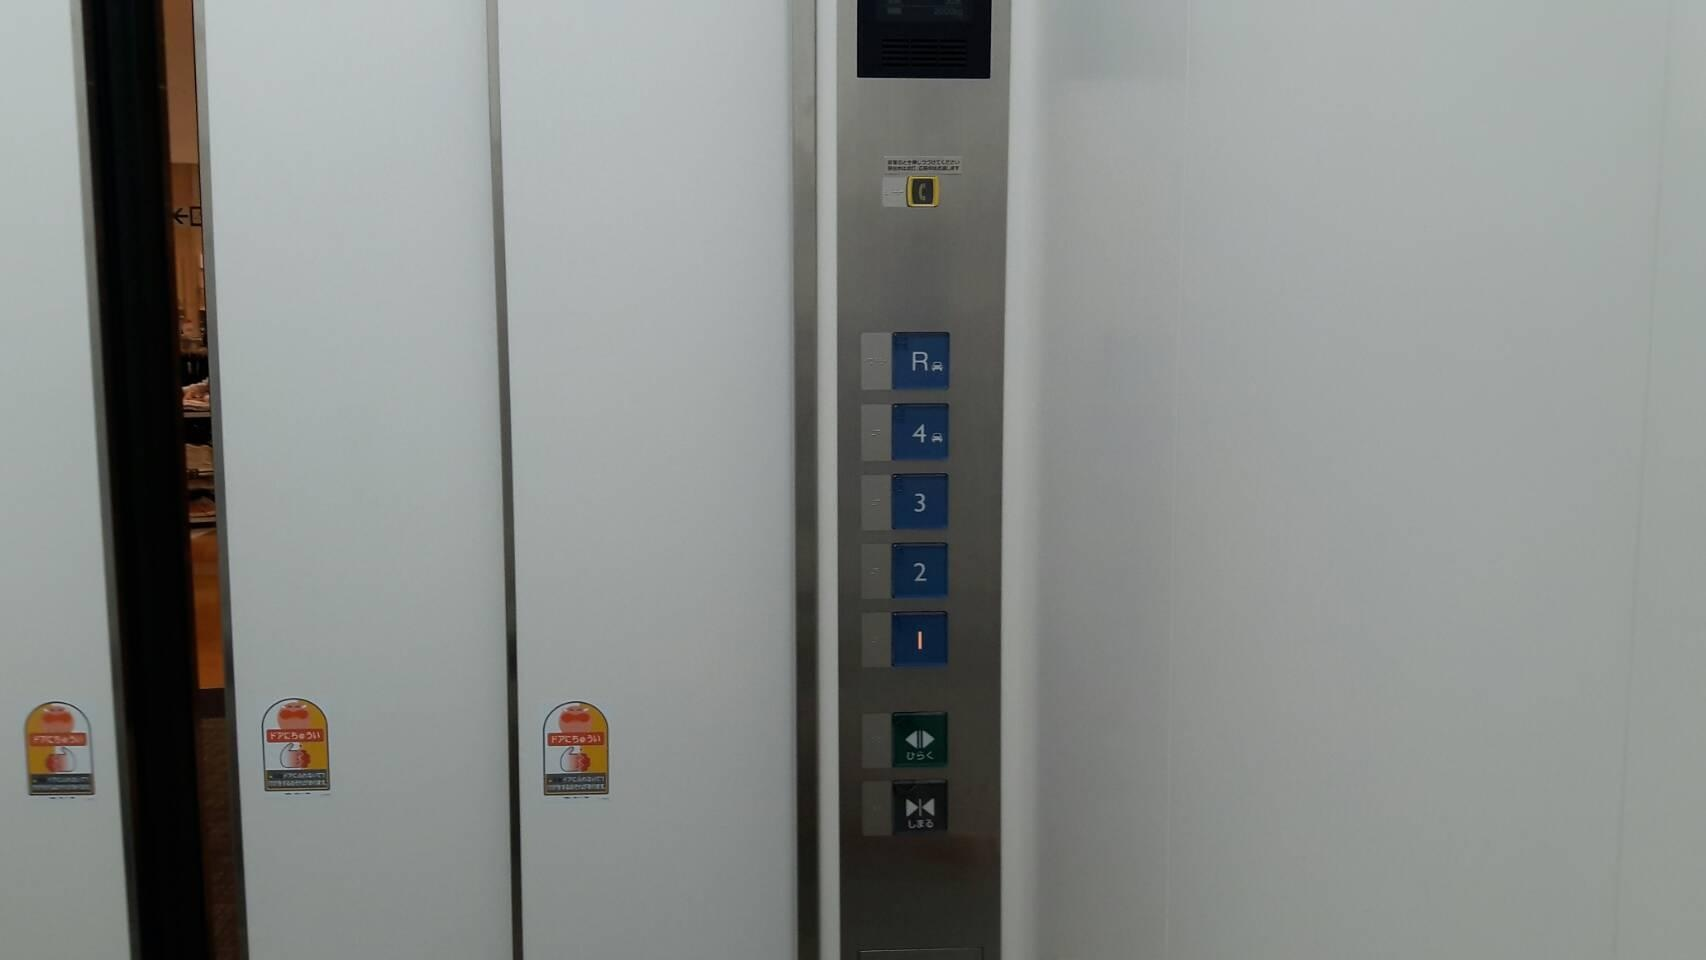1: (890, 610, 948, 667)
2: (889, 542, 947, 599)
3: (889, 472, 949, 531)
4: (889, 402, 949, 461)
R: (890, 331, 950, 392)
call: (906, 176, 940, 207)
close: (890, 778, 949, 836)
open: (890, 712, 949, 768)
